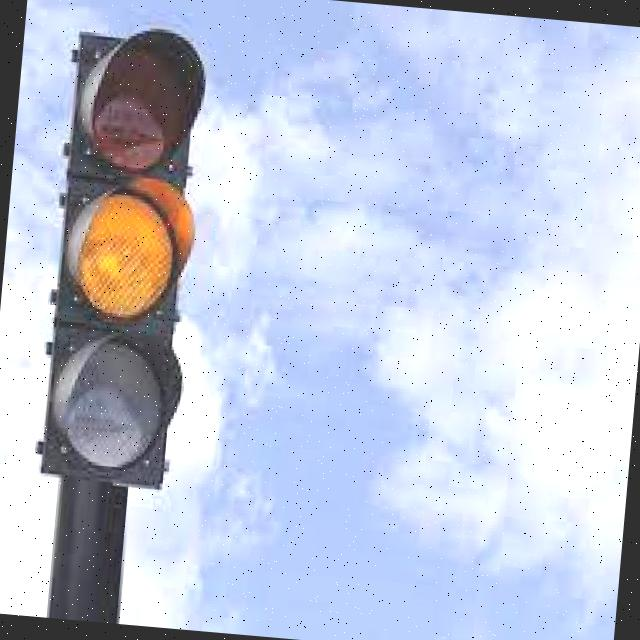yellow_light: (36, 21, 218, 495)
